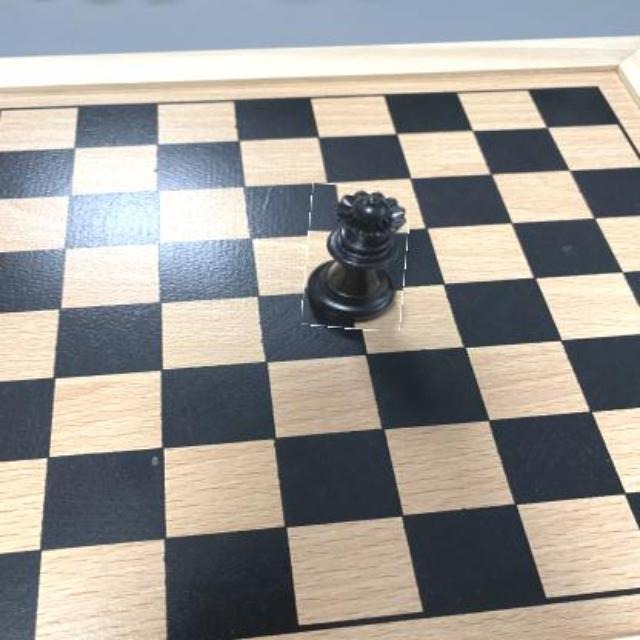black-queen: (305, 186, 408, 330)
